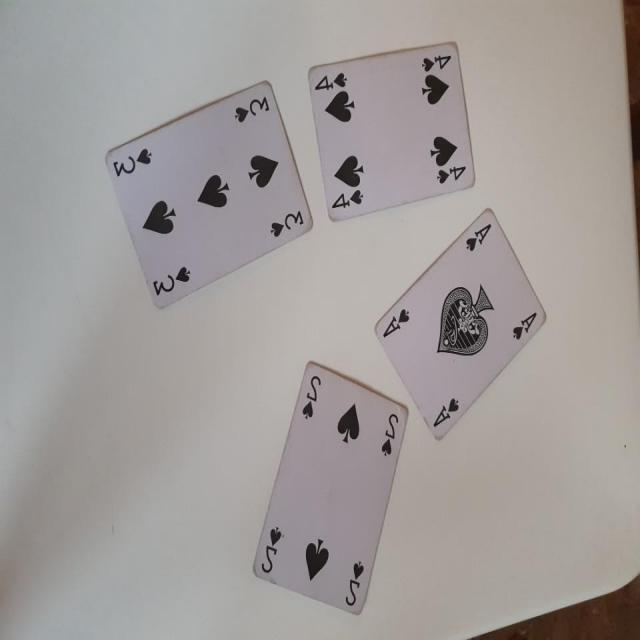2 of spades: (246, 358, 412, 626)
3 of spades: (104, 79, 317, 323)
4 of spades: (310, 44, 474, 224)
ace of spades: (376, 203, 548, 444)
